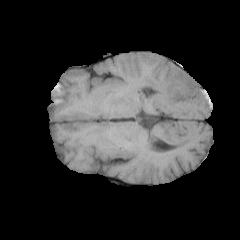glioma: (142, 72, 197, 110)
